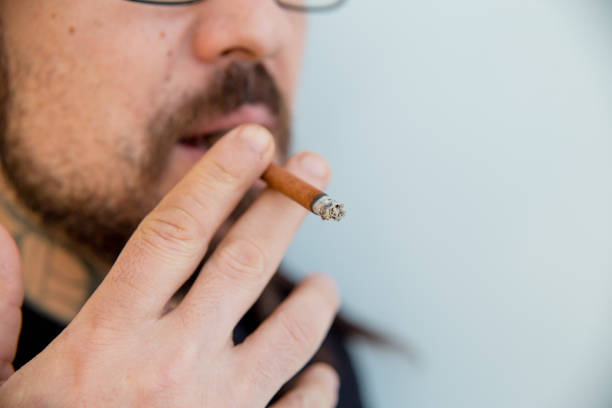cigarette: (259, 161, 346, 223)
